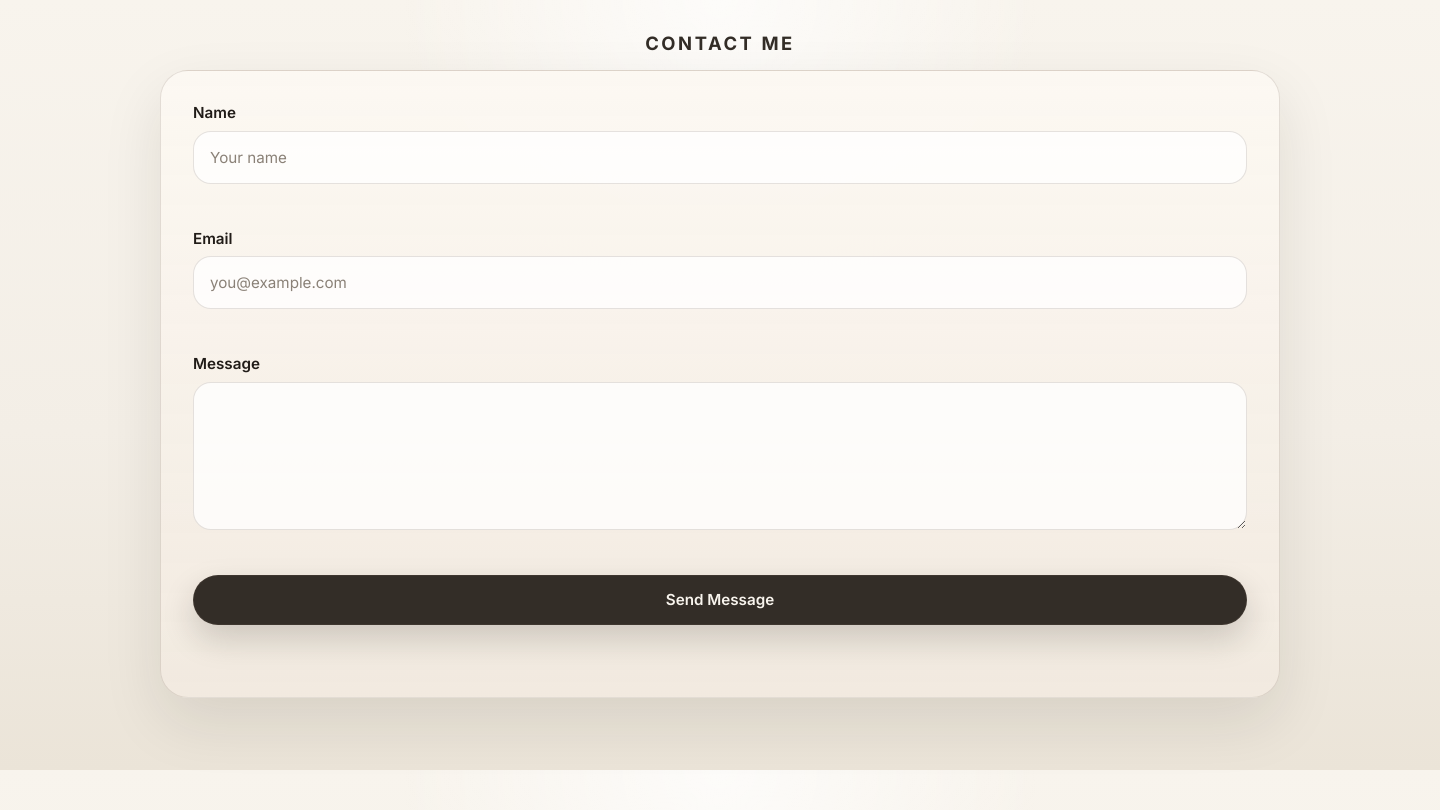
Test case: ContactForm › should show a validation message when submitted empty
Click the button "Send Message" at (720, 600), box [193,575,1247,625]
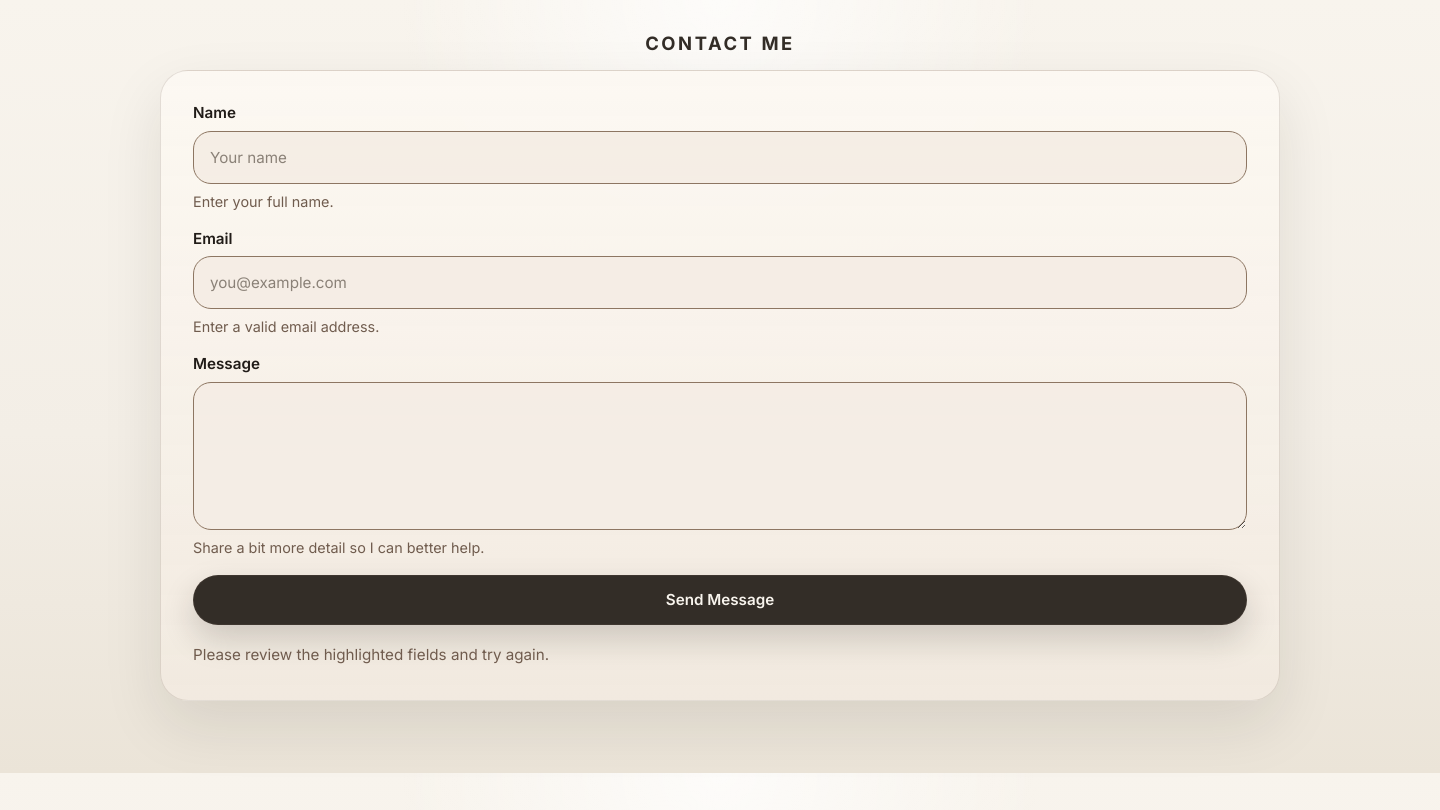
Expected: the text "Please review the highlighted fields and try again." is shown, [193,645,549,664]
Expected: the text "Enter your full name." is shown, [193,193,334,210]
Expected: the text "Enter a valid email address." is shown, [193,318,379,335]
